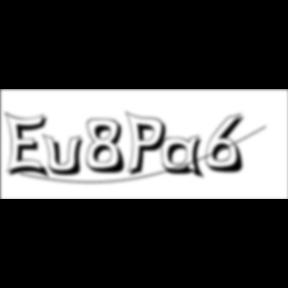6: (206, 112, 252, 176)
8: (86, 117, 132, 176)
E: (4, 110, 54, 182)
P: (126, 110, 172, 180)
a: (162, 135, 210, 182)
u: (42, 132, 90, 178)
